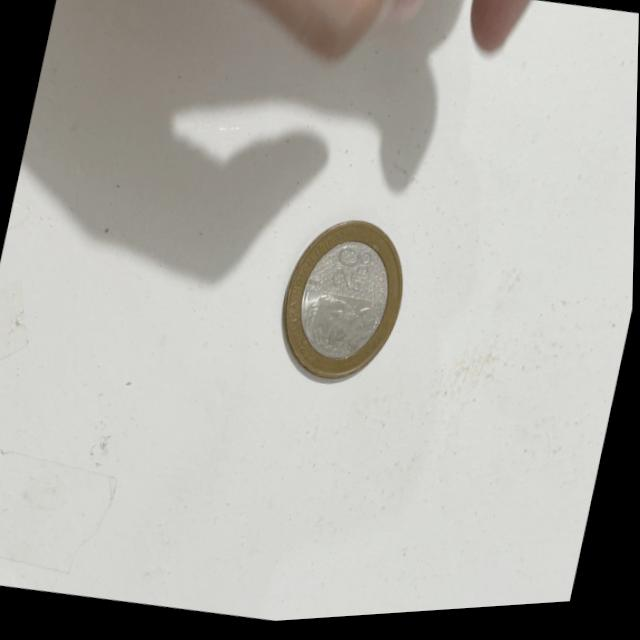20_New_Front: (317, 242, 380, 309)
